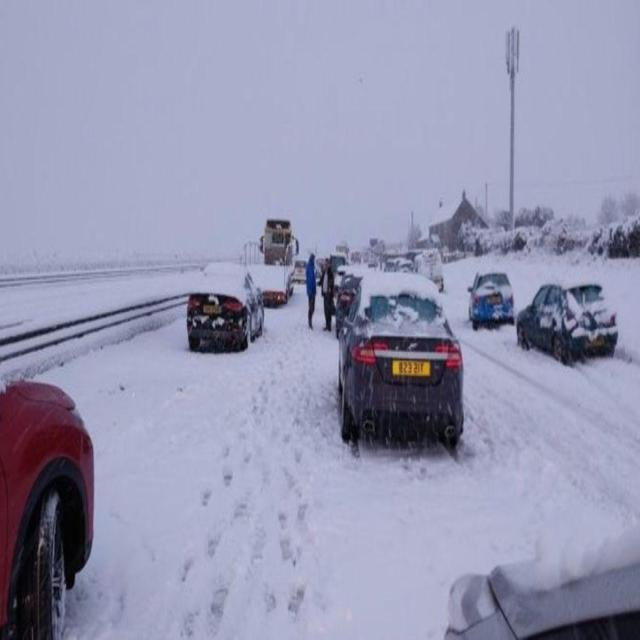Car: (0, 312, 104, 637), (338, 250, 464, 481), (518, 258, 627, 394), (191, 248, 256, 350), (468, 260, 513, 337)
Truck: (242, 191, 304, 312)
